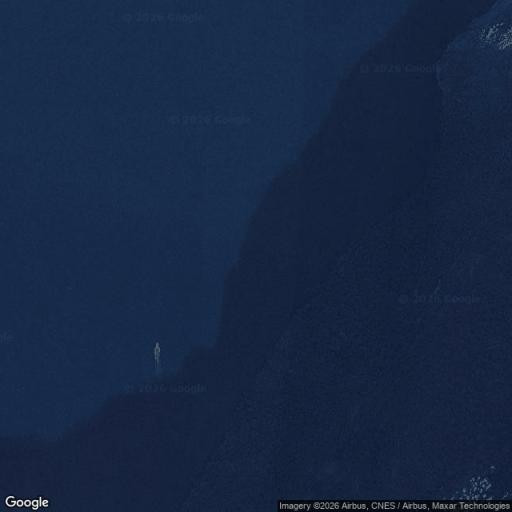ship: (151, 345, 165, 373)
